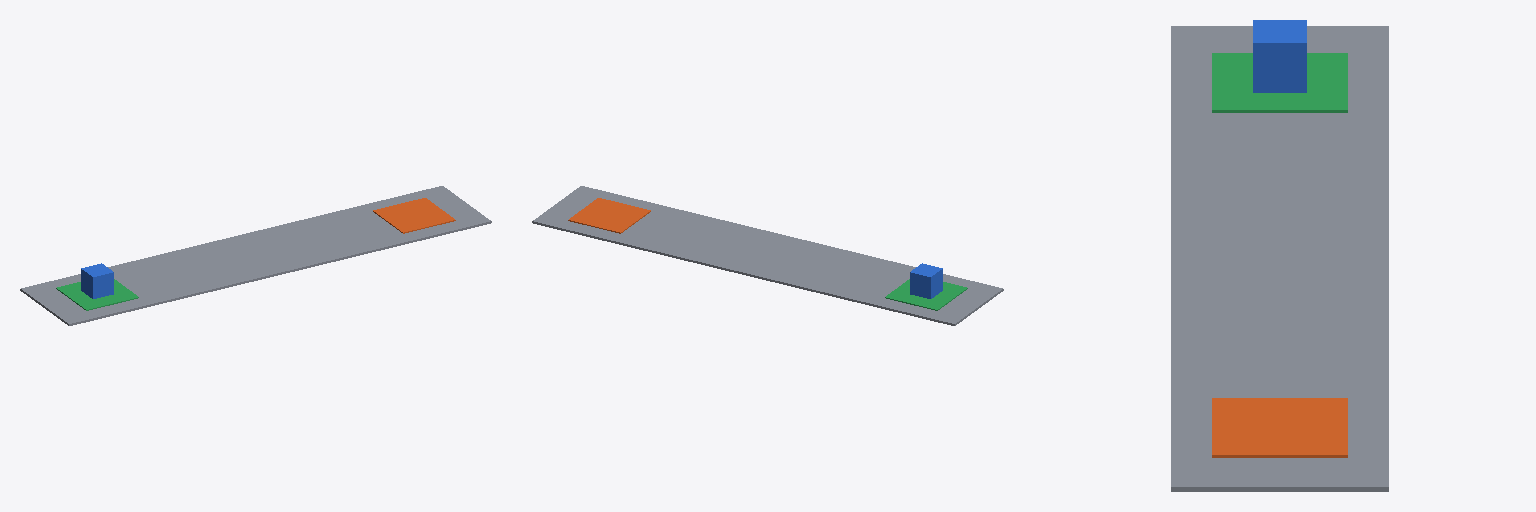
The robot description file, URDF, robot "logistics_ab":
<?xml version="1.0"?>
<!-- 물류 공정 예제: 물건(box)이 A 지점에서 B 지점까지 직선 레일(item_slide, 0~3 m)을 따라 움직인다. 로봇 없음.
     뷰어에서 열고 item_slide 관절 값을 0 → 3 으로 움직이면 물건이 A 에서 B 로 간다. 단위 m. -->
<robot name="logistics_ab">
  <material name="floor"><color rgba="0.6 0.62 0.66 1"/></material>
  <material name="pad_a"><color rgba="0.25 0.7 0.4 1"/></material>
  <material name="pad_b"><color rgba="0.9 0.45 0.2 1"/></material>
  <material name="cargo"><color rgba="0.25 0.5 0.9 1"/></material>

  <!-- 바닥판 + A/B 지점 표시판 (A: x=0, B: x=3) -->
  <link name="line_base">
    <inertial><origin xyz="1.5 0 0"/><mass value="20.0"/><inertia ixx="1.0" ixy="0" ixz="0" iyy="5.0" iyz="0" izz="6.0"/></inertial>
    <visual>
      <origin xyz="1.5 0 -0.01"/>
      <geometry><box size="4.0 0.8 0.02"/></geometry>
      <material name="floor"/>
    </visual>
    <visual>
      <origin xyz="0 0 0.005"/>
      <geometry><box size="0.5 0.5 0.01"/></geometry>
      <material name="pad_a"/>
    </visual>
    <visual>
      <origin xyz="3 0 0.005"/>
      <geometry><box size="0.5 0.5 0.01"/></geometry>
      <material name="pad_b"/>
    </visual>
  </link>

  <!-- 옮길 물건: A 지점 위(x=0)에서 시작 -->
  <link name="item">
    <inertial><origin xyz="0 0 0.1"/><mass value="2.0"/><inertia ixx="0.0133" ixy="0" ixz="0" iyy="0.0133" iyz="0" izz="0.0133"/></inertial>
    <visual>
      <origin xyz="0 0 0.1"/>
      <geometry><box size="0.2 0.2 0.2"/></geometry>
      <material name="cargo"/>
    </visual>
  </link>
  <joint name="item_slide" type="prismatic">
    <parent link="line_base"/><child link="item"/>
    <origin xyz="0 0 0.01"/>
    <axis xyz="1 0 0"/>
    <limit lower="0" upper="3" effort="100" velocity="1"/>
  </joint>
</robot>

--- What the picture shows (computed from the rendered views, not written in the file) ---
The picture shows the robot from 3 angles, left to right: view 1: azimuth 30°, elevation 25°; view 2: azimuth 150°, elevation 25°; view 3: azimuth 270°, elevation 25°; orthographic projection.
Model logistics_ab with 2 links and 1 joints (1 prismatic), rooted at line_base, posed all joints at 0.
Visible links, largest first — view 1: line_base, item; view 2: line_base, item; view 3: line_base, item.
Link boxes in pixels (left/top/right/bottom): line_base: left=20, top=186, right=491, bottom=325; item: left=81, top=263, right=113, bottom=298; line_base: left=532, top=186, right=1003, bottom=325; item: left=910, top=263, right=942, bottom=298; line_base: left=1171, top=26, right=1388, bottom=491; item: left=1253, top=20, right=1306, bottom=92.
Bounding box of the posed robot: 4 × 0.8 × 0.23 m (x, y, z).
Geometry: primitives only (box / cylinder / sphere), no mesh files.
